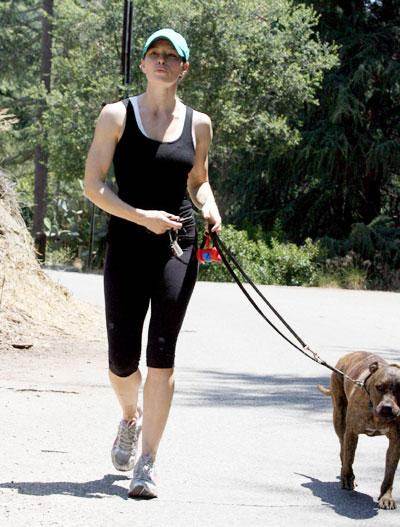person: (84, 31, 221, 496)
